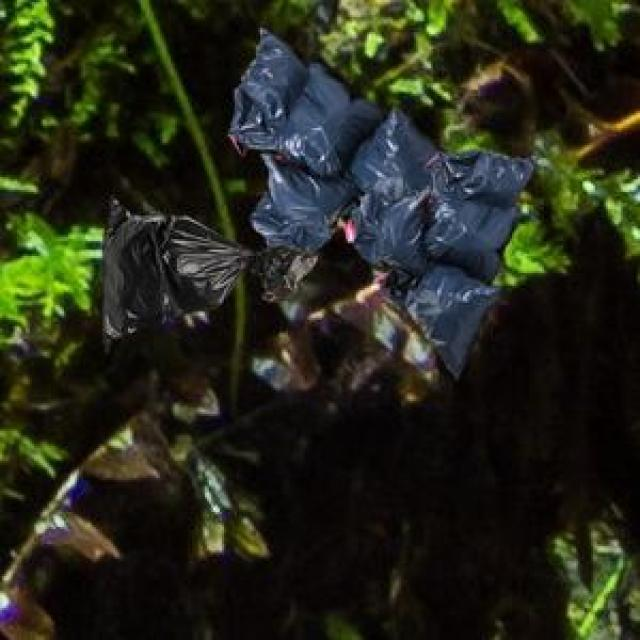Vinyl: (96, 200, 316, 338), (226, 31, 380, 173), (399, 274, 501, 386), (418, 200, 516, 278), (341, 193, 431, 264), (431, 152, 539, 198)
